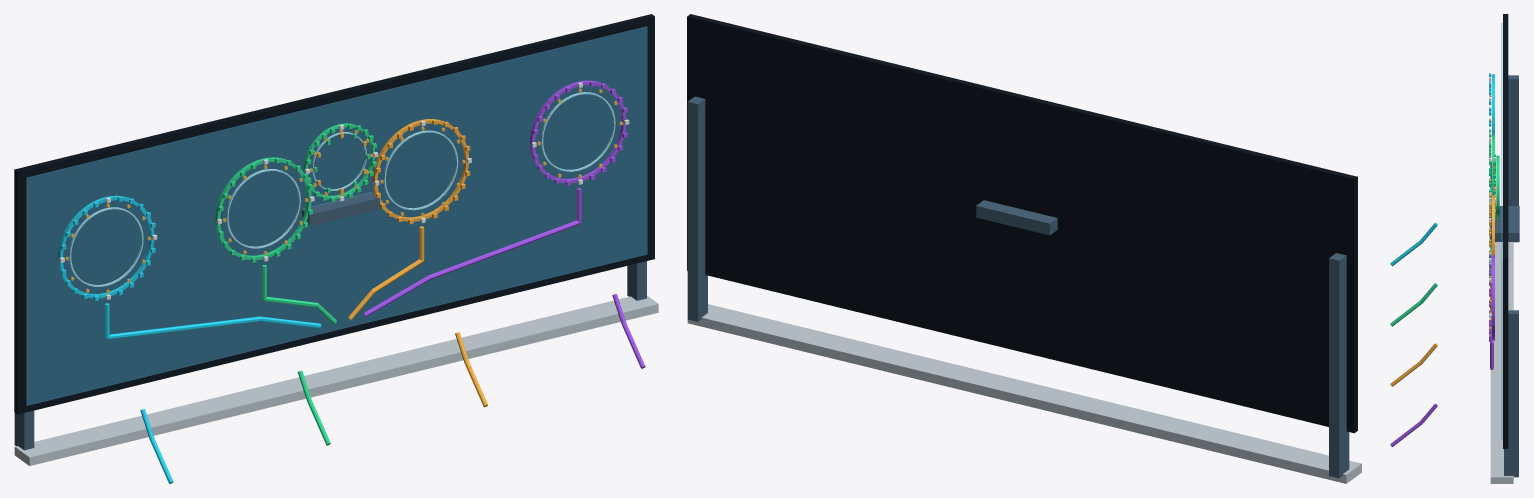
File: 67_L80_GiantWavelengthRoutingHologram.fbx
3 renders of one model, left to right at view 1: azimuth 30°, elevation 25°; view 2: azimuth 150°, elevation 25°; view 3: azimuth 270°, elevation 25°, orthographic. The views are drawn at different scales.
Visible parts, largest first — view 1: GiantWavelengthRoutingHologram_Part_0016, GiantWavelengthRoutingHologram_Part_0017, GiantWavelengthRoutingHologram, GiantWavelengthRoutingHologram_Part_0228, GiantWavelengthRoutingHologram_Part_0061, GiantWavelengthRoutingHologram_Part_0147, GiantWavelengthRoutingHologram_Part_0018, GiantWavelengthRoutingHologram_Part_0104, GiantWavelengthRoutingHologram_Part_0186, GiantWavelengthRoutingHologram_Part_0057; view 2: GiantWavelengthRoutingHologram_Part_0016, GiantWavelengthRoutingHologram, GiantWavelengthRoutingHologram_Part_0228; view 3: GiantWavelengthRoutingHologram, GiantWavelengthRoutingHologram_Part_0016, GiantWavelengthRoutingHologram_Part_0017, GiantWavelengthRoutingHologram_Part_0228, GiantWavelengthRoutingHologram_Part_0147, GiantWavelengthRoutingHologram_Part_0190, GiantWavelengthRoutingHologram_Part_0018, GiantWavelengthRoutingHologram_Part_0104.
Boxes of the visible parts, box(x1,y1,x2,y2) form: GiantWavelengthRoutingHologram_Part_0016: box(14, 14, 654, 414); GiantWavelengthRoutingHologram_Part_0017: box(26, 26, 647, 405); GiantWavelengthRoutingHologram: box(14, 261, 658, 483); GiantWavelengthRoutingHologram_Part_0228: box(301, 192, 379, 226); GiantWavelengthRoutingHologram_Part_0061: box(215, 157, 311, 259); GiantWavelengthRoutingHologram_Part_0147: box(530, 80, 626, 183); GiantWavelengthRoutingHologram_Part_0018: box(58, 195, 154, 298); GiantWavelengthRoutingHologram_Part_0104: box(372, 119, 468, 221); GiantWavelengthRoutingHologram_Part_0186: box(429, 220, 579, 279); GiantWavelengthRoutingHologram_Part_0057: box(107, 316, 261, 339); GiantWavelengthRoutingHologram_Part_0016: box(687, 14, 1357, 433); GiantWavelengthRoutingHologram: box(687, 96, 1361, 483); GiantWavelengthRoutingHologram_Part_0228: box(976, 200, 1057, 235); GiantWavelengthRoutingHologram: box(1390, 75, 1518, 483); GiantWavelengthRoutingHologram_Part_0016: box(1503, 14, 1508, 448); GiantWavelengthRoutingHologram_Part_0017: box(1501, 23, 1502, 439); GiantWavelengthRoutingHologram_Part_0228: box(1489, 206, 1519, 241); GiantWavelengthRoutingHologram_Part_0147: box(1492, 255, 1494, 340); GiantWavelengthRoutingHologram_Part_0190: box(1496, 155, 1499, 218); GiantWavelengthRoutingHologram_Part_0018: box(1492, 74, 1494, 134); GiantWavelengthRoutingHologram_Part_0104: box(1492, 195, 1494, 255).
Bounding box in the file's own units: 770 × 334 × 173.
